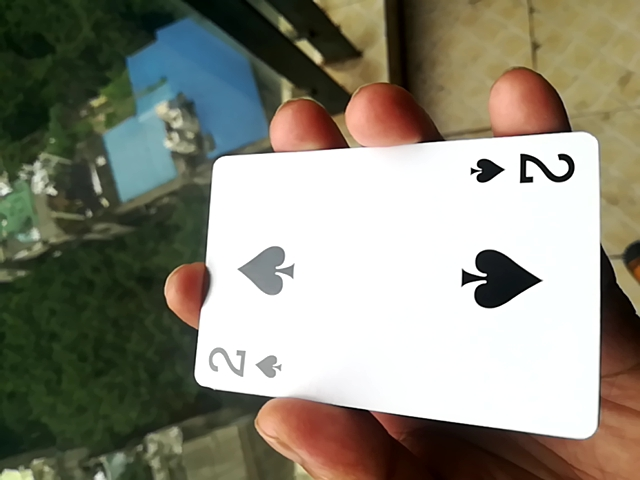ht 2: (184, 137, 592, 448)
